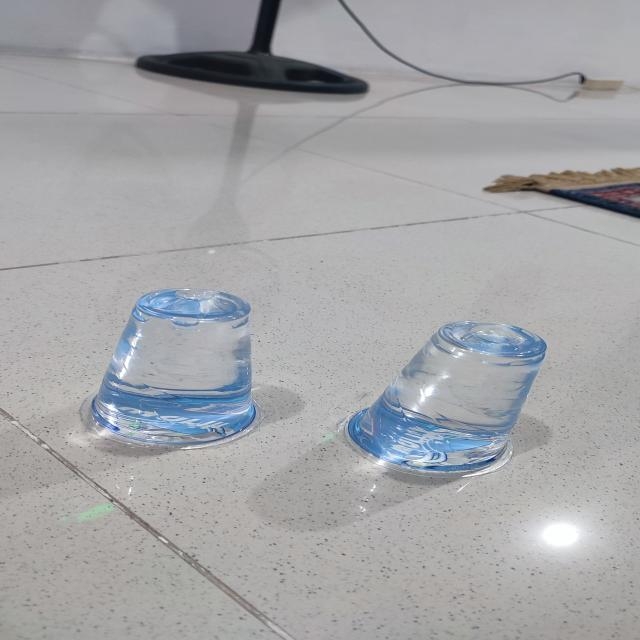air gelas: (338, 315, 559, 473), (93, 285, 271, 449)
